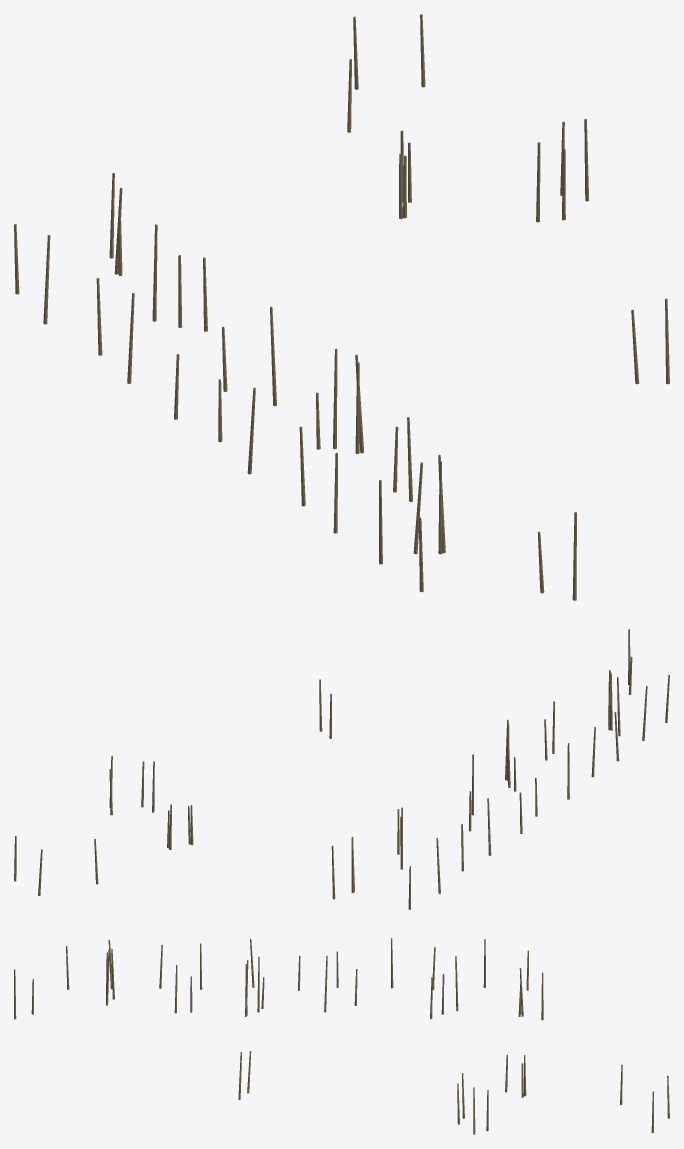
Rendered from TrunksW.fbx.
3 views of the same model, one above another, from view 1: azimuth 30°, elevation 25°; view 2: azimuth 150°, elevation 25°; view 3: azimuth 270°, elevation 25° (orthographic). The views are drawn at different scales.
Parts seen in each view (by area): view 1: TrunkW0.001; view 2: TrunkW0.001; view 3: TrunkW0.001.
Part boxes in pixels (x1,y1,x2,y2): TrunkW0.001: (14,14,669,600); TrunkW0.001: (14,629,669,909); TrunkW0.001: (14,938,669,1134).
Bounding box in the file's own units: 16725 × 2932 × 31334.
